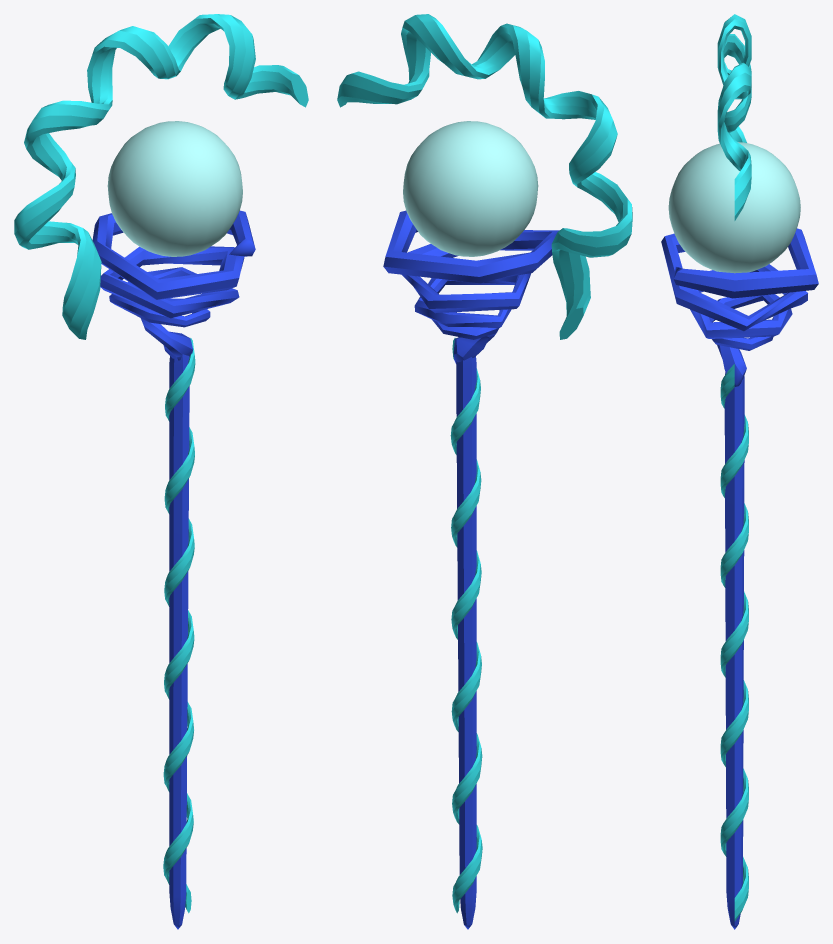
Rendered from wand_water.obj.
The picture shows the model from 3 angles, left to right: view 1: azimuth 30°, elevation 25°; view 2: azimuth 150°, elevation 25°; view 3: azimuth 270°, elevation 25°; orthographic projection. The views are drawn at different scales.
Bounding box in the file's own units: 2.52 × 7.47 × 1.2.
